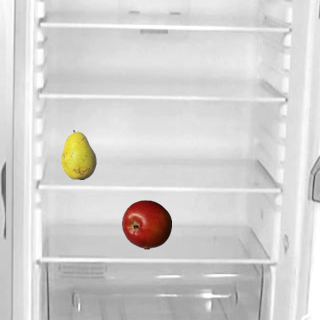Apple Braeburn: (121, 199, 171, 249)
Pear Monster: (53, 129, 103, 179)
